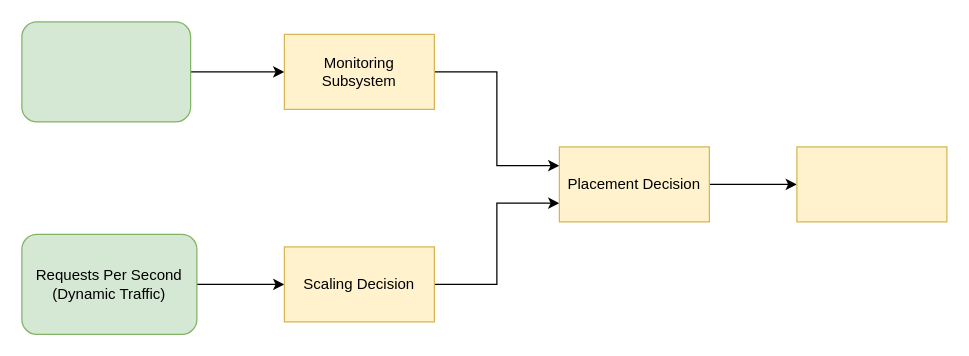
The diagram is 969 pixels wide and 356 high, and some of its shapes have lost their labels. The centre of each missing label's shape, as x and y in pixels:
"Controller" goes at point (871, 184).
"Hardware Metrics (Dynamic Interference)" goes at point (106, 71).
